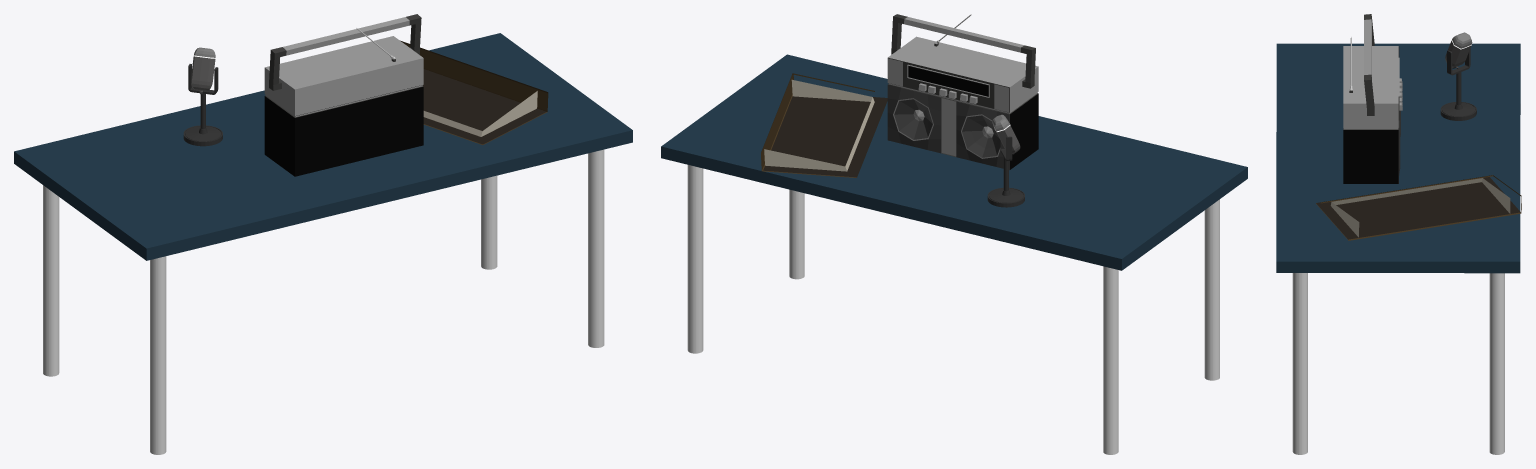
Rendered from 3d_radio_v2.glb.
3 renders of one model, left to right at view 1: azimuth 30°, elevation 25°; view 2: azimuth 150°, elevation 25°; view 3: azimuth 270°, elevation 25°, orthographic. The views are drawn at different scales.
Parts seen in each view (by area): view 1: Table, Radio, Plane, Microphone; view 2: Table, Radio, Plane, Microphone; view 3: Table, Radio, Plane, Microphone.
Part boxes in pixels (x1=…): Table: x1=14, y1=33, x2=632, y2=454; Radio: x1=264, y1=14, x2=423, y2=176; Plane: x1=400, y1=40, x2=548, y2=144; Microphone: x1=183, y1=47, x2=222, y2=146; Table: x1=661, y1=54, x2=1247, y2=454; Radio: x1=887, y1=14, x2=1038, y2=170; Plane: x1=761, y1=73, x2=887, y2=177; Microphone: x1=987, y1=114, x2=1024, y2=207; Table: x1=1276, y1=43, x2=1520, y2=454; Radio: x1=1343, y1=14, x2=1402, y2=183; Plane: x1=1316, y1=175, x2=1521, y2=240; Microphone: x1=1440, y1=32, x2=1476, y2=120.
Size of the model in its own units: 10.41 by 7.12 by 4.95.
